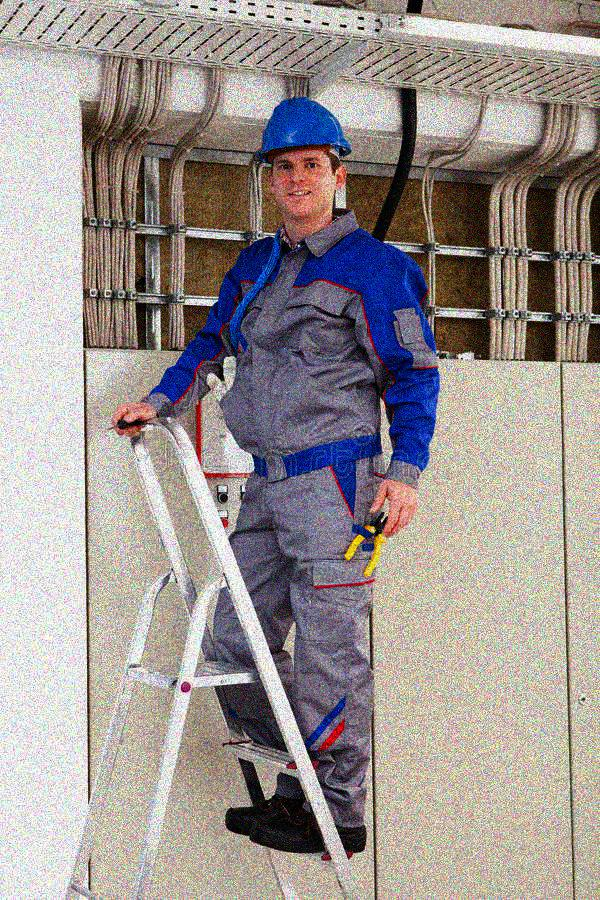helmet: (250, 93, 353, 213)
